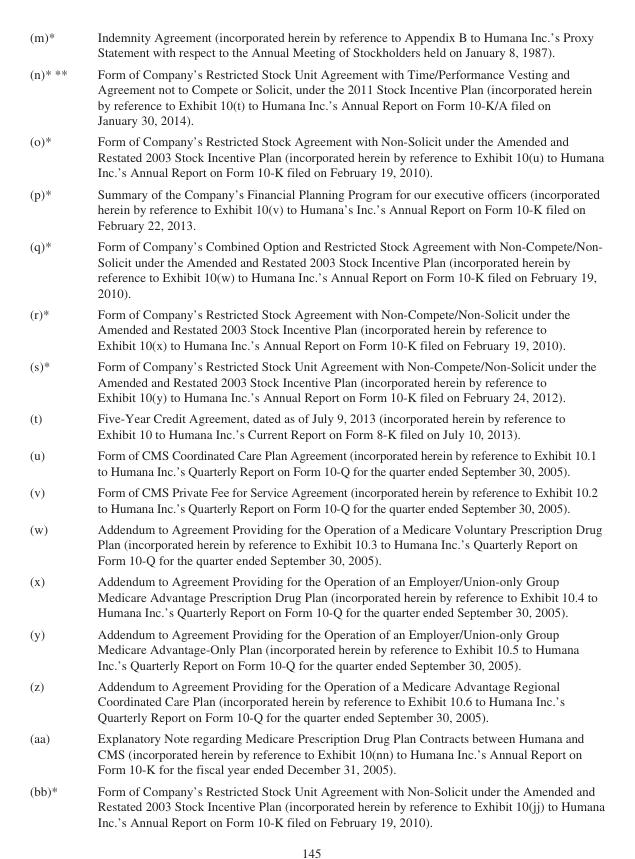table: (29, 29, 603, 828)
table column: (81, 29, 603, 828), (29, 29, 81, 828)
table row: (29, 62, 603, 130), (29, 234, 603, 302), (29, 302, 603, 355), (29, 517, 603, 570), (29, 674, 603, 727), (29, 130, 603, 182), (29, 182, 603, 234), (29, 355, 603, 407), (29, 570, 603, 622), (29, 622, 603, 674), (29, 727, 603, 779), (29, 779, 603, 828), (29, 407, 603, 444), (29, 444, 603, 481), (29, 481, 603, 517), (29, 29, 603, 62)
